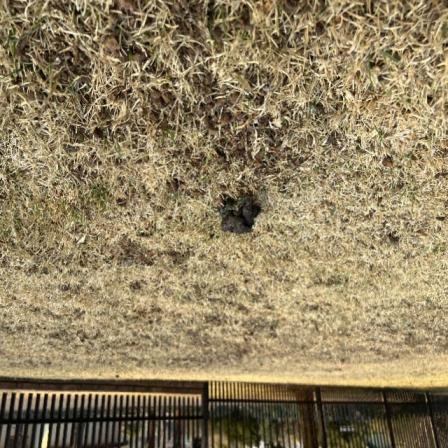dog-poop: (221, 187, 260, 237)
